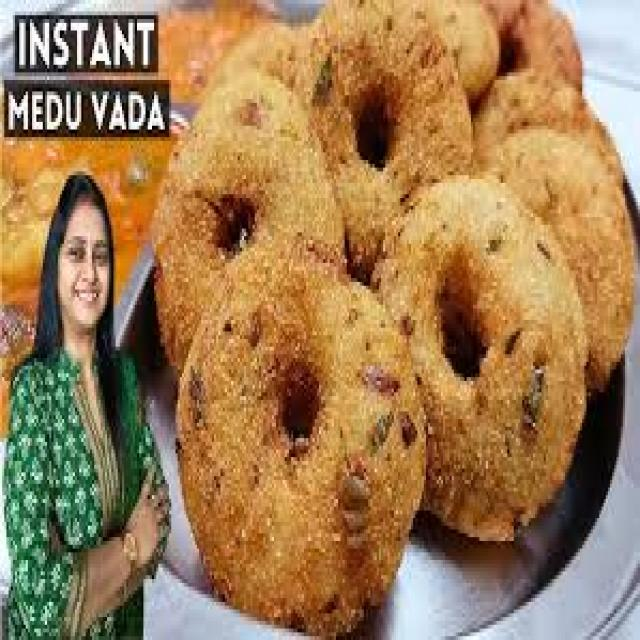MEDU VADA: (178, 240, 424, 632), (377, 175, 584, 537), (154, 69, 342, 370), (283, 0, 471, 278)
